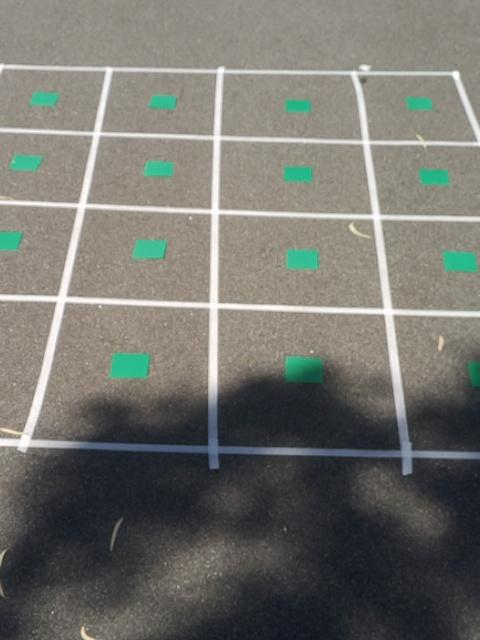weed: (281, 352, 328, 390), (107, 349, 153, 383), (283, 243, 322, 273), (130, 236, 169, 264), (280, 160, 314, 188), (417, 166, 453, 189), (7, 151, 44, 173), (443, 249, 476, 273), (0, 226, 26, 253), (142, 159, 174, 179), (28, 89, 58, 108), (149, 91, 176, 112), (404, 94, 432, 113), (468, 351, 480, 391), (283, 98, 312, 114)
